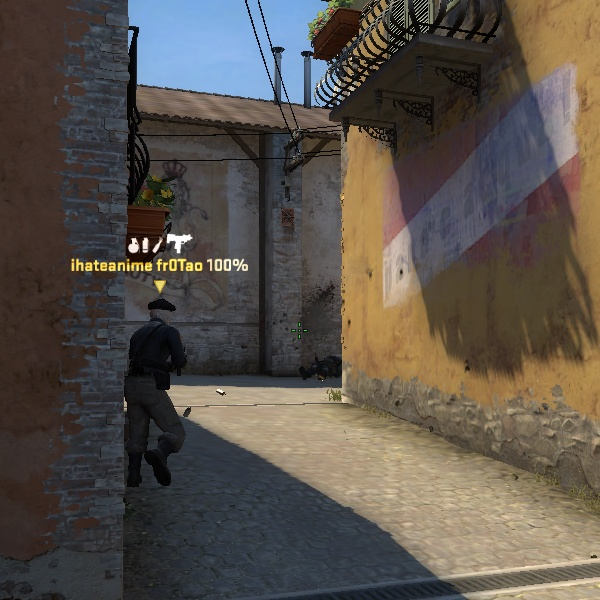ct_body: (113, 298, 209, 492)
ct_head: (140, 293, 181, 333)
t_body: (113, 298, 209, 492)
